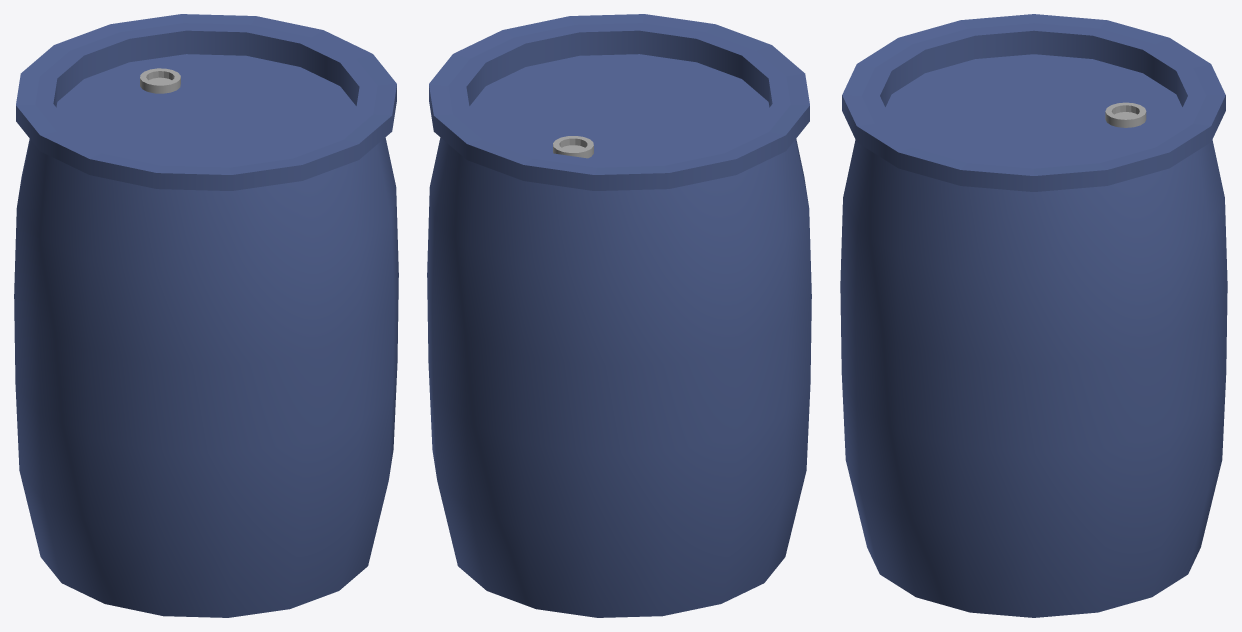
File: drum.fbx
3 views of the same model, side by side, from view 1: azimuth 30°, elevation 25°; view 2: azimuth 150°, elevation 25°; view 3: azimuth 270°, elevation 25° (orthographic).
Parts seen in each view (by area): view 1: pCylinder1; view 2: pCylinder1; view 3: pCylinder1.
Boxes of the visible parts, x1,y1,x2,y2 form: pCylinder1: [14, 14, 398, 617]; pCylinder1: [427, 14, 811, 617]; pCylinder1: [840, 14, 1227, 617].
Bounding box in the file's own units: 3.37 × 4.35 × 3.37.
